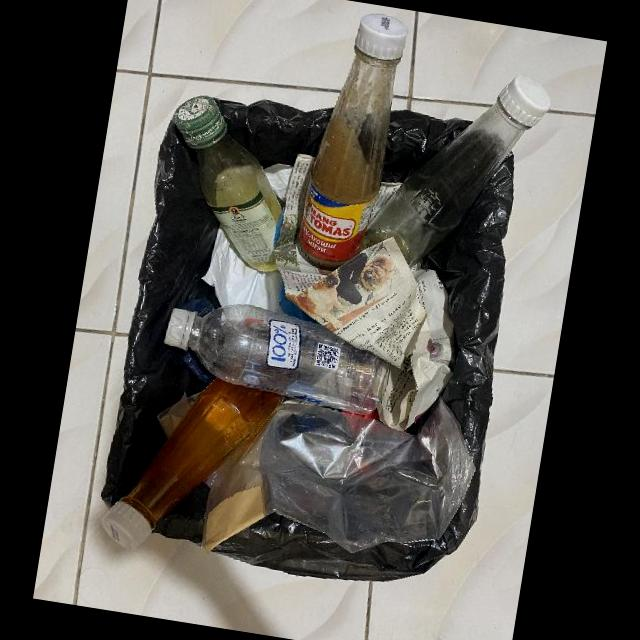chai_nhua_pet: (162, 306, 391, 417)
chai_thuy_tinh: (362, 75, 549, 268), (100, 379, 284, 551), (297, 14, 408, 267), (172, 96, 284, 273)
giay: (287, 238, 455, 430)
tui_ni_long: (260, 402, 476, 553), (201, 421, 278, 553), (203, 225, 286, 312)
